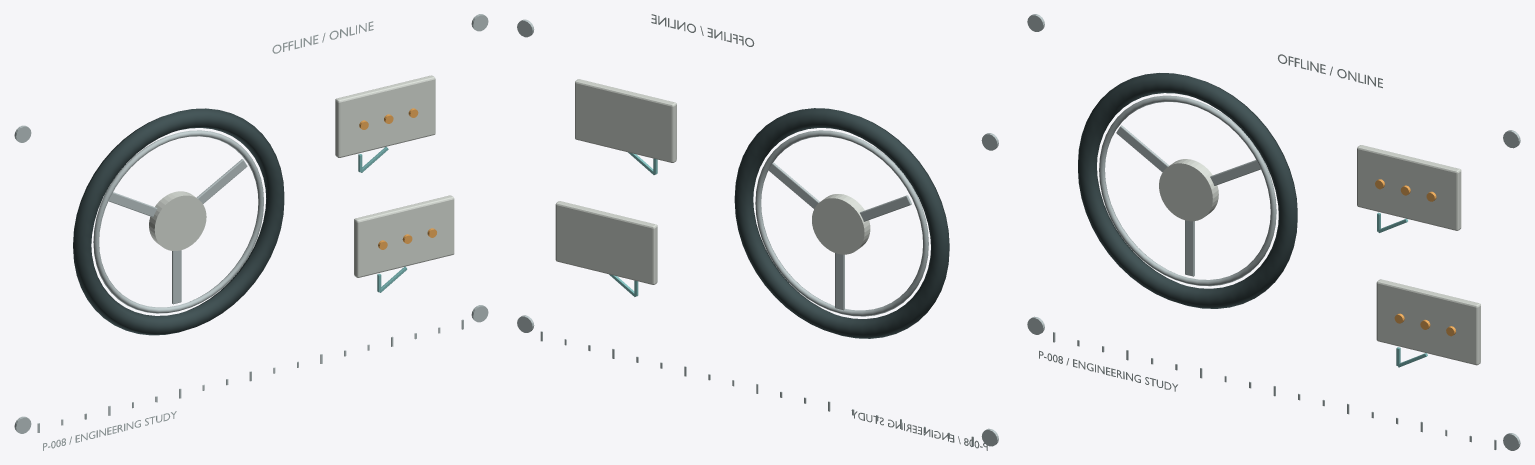
File: driving-languages.glb
3 renders of one model, left to right at view 1: azimuth 30°, elevation 25°; view 2: azimuth 150°, elevation 25°; view 3: azimuth 330°, elevation 25°, orthographic. The views are drawn at different scales.
Visible parts, largest first — view 1: optical-core__Project_Ceramic.007, optical-lenses__Project_Graphite, optical-lenses__Project_Silver.007, optical-lenses__Project_Trace.006, optical-core__Project_Amber.006; view 2: optical-core__Project_Ceramic.007, optical-lenses__Project_Graphite, optical-lenses__Project_Silver.007; view 3: optical-core__Project_Ceramic.007, optical-lenses__Project_Graphite, optical-lenses__Project_Silver.007, optical-core__Project_Amber.006.
Part boxes in pixels (x1,y1,x2,y2): optical-core__Project_Ceramic.007: [149, 75, 454, 277]; optical-lenses__Project_Graphite: [73, 108, 284, 335]; optical-lenses__Project_Silver.007: [14, 14, 488, 450]; optical-lenses__Project_Trace.006: [358, 146, 407, 292]; optical-core__Project_Amber.006: [359, 108, 436, 249]; optical-core__Project_Ceramic.007: [555, 79, 870, 284]; optical-lenses__Project_Graphite: [734, 108, 949, 338]; optical-lenses__Project_Silver.007: [517, 14, 998, 450]; optical-core__Project_Ceramic.007: [1159, 145, 1480, 365]; optical-lenses__Project_Graphite: [1078, 73, 1297, 308]; optical-lenses__Project_Silver.007: [1027, 14, 1520, 450]; optical-core__Project_Amber.006: [1375, 179, 1455, 336].
Size of the model in its own units: 4.01 by 2.83 by 0.1547.
